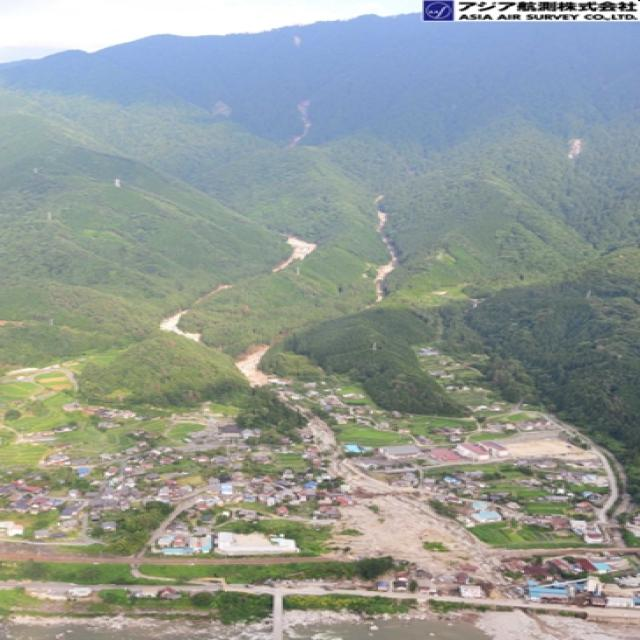Debris-flow: (373, 195, 399, 302), (273, 235, 318, 272), (160, 309, 201, 341), (237, 345, 267, 384), (288, 100, 309, 146), (198, 285, 231, 303), (566, 139, 583, 159)
